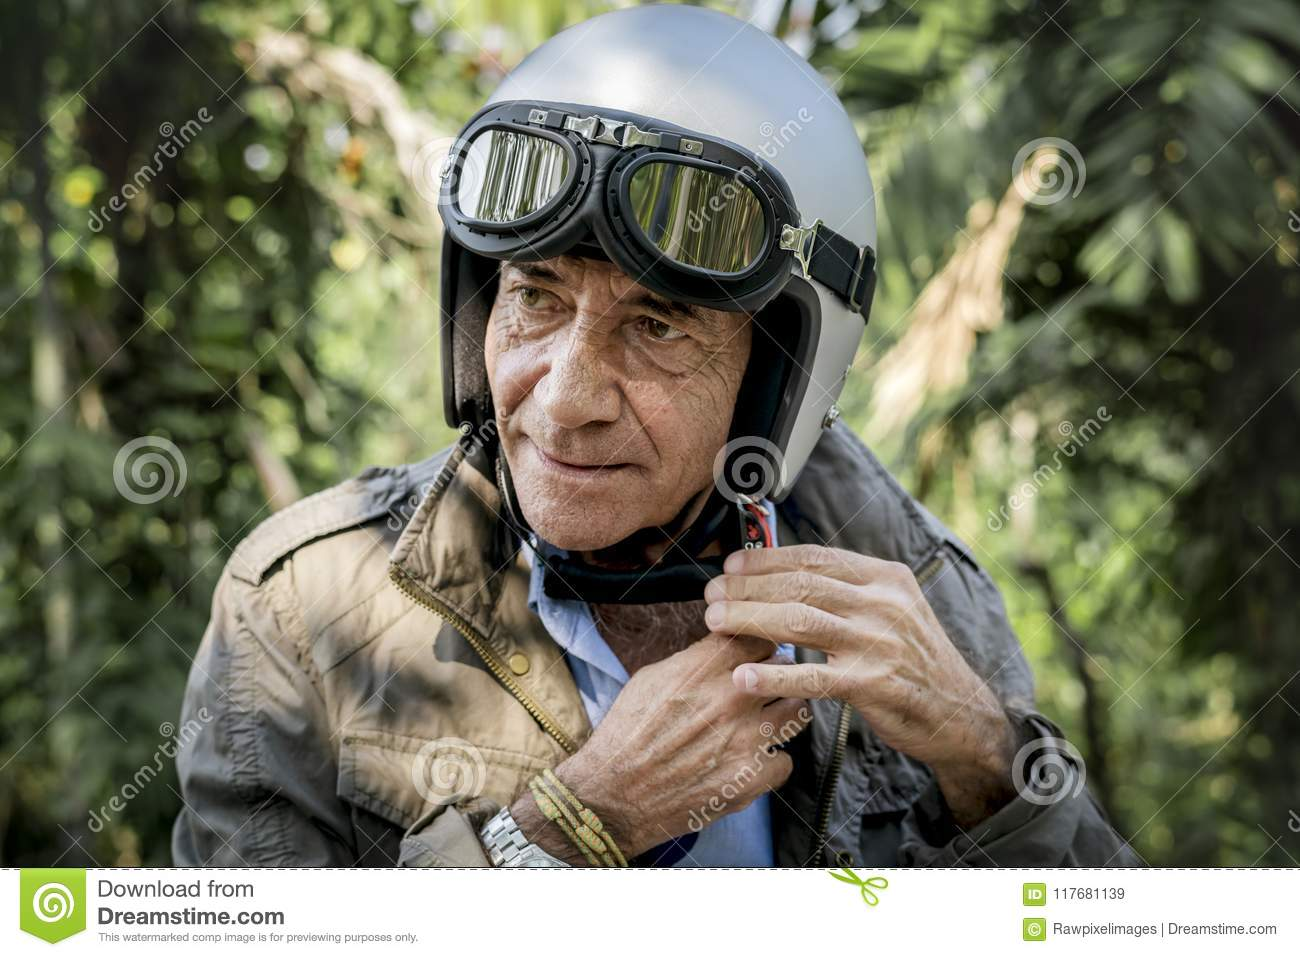helmet: (465, 21, 879, 482)
